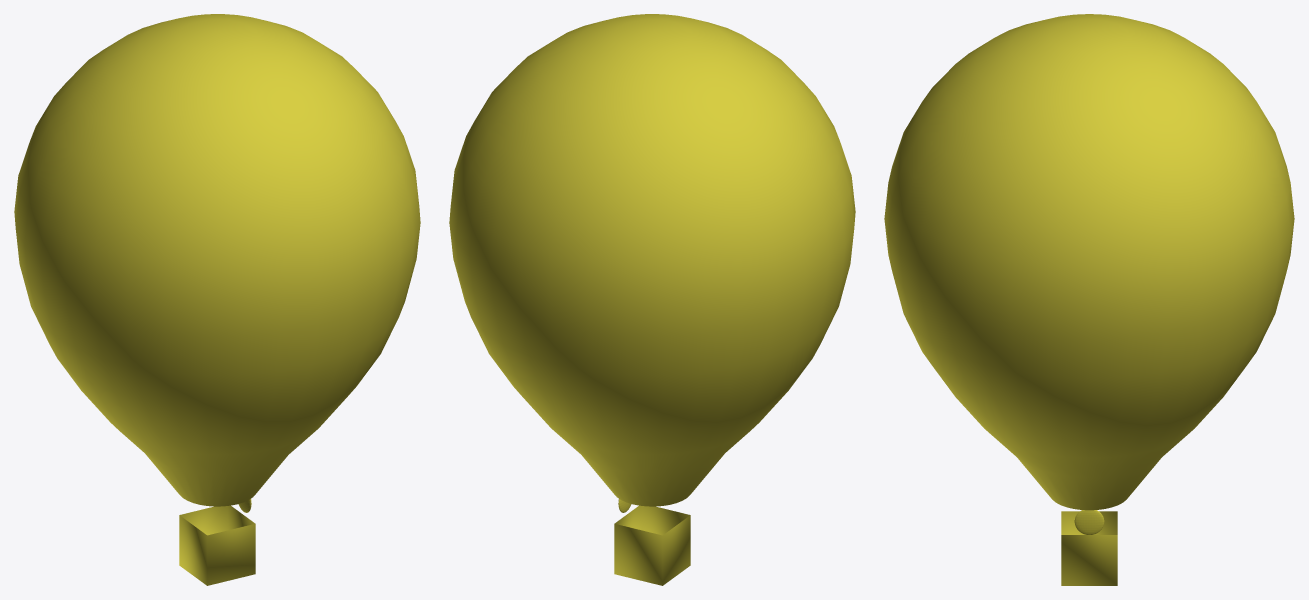
File: balloonOld.dae
The picture shows the model from 3 angles, left to right: view 1: azimuth 30°, elevation 25°; view 2: azimuth 150°, elevation 25°; view 3: azimuth 270°, elevation 25°; orthographic projection.
Parts seen in each view (by area): view 1: Sphere; view 2: Sphere; view 3: Sphere.
Part boxes in pixels (x1,y1,x2,y2): Sphere: [14, 14, 420, 585]; Sphere: [449, 14, 855, 585]; Sphere: [884, 14, 1294, 585].
Bounding box in the file's own units: 2 × 2 × 2.91.
